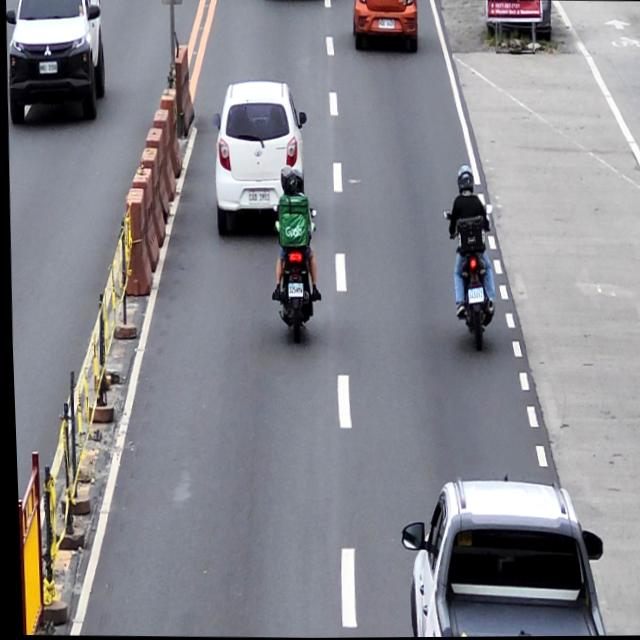Car: (397, 480, 597, 638), (209, 83, 308, 230), (349, 0, 420, 58)
License-Plate: (245, 187, 270, 206), (462, 286, 483, 307), (284, 282, 301, 297)
Motorcycle: (441, 166, 497, 350), (270, 171, 317, 350)
